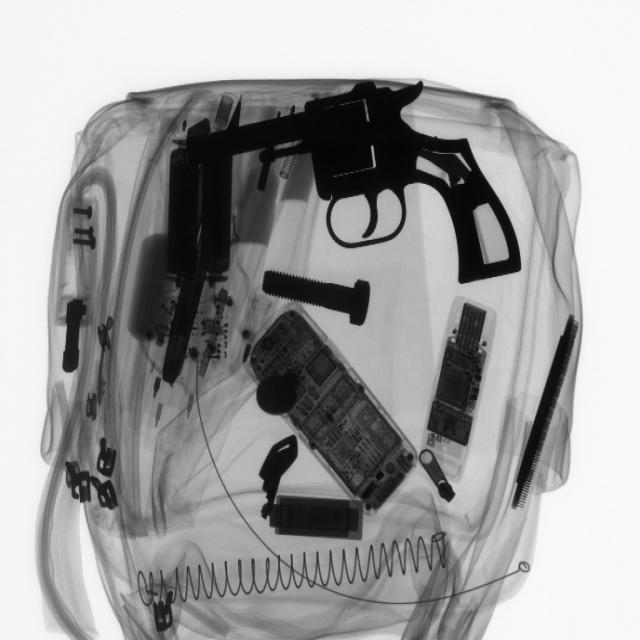GUN: (193, 82, 537, 293)
